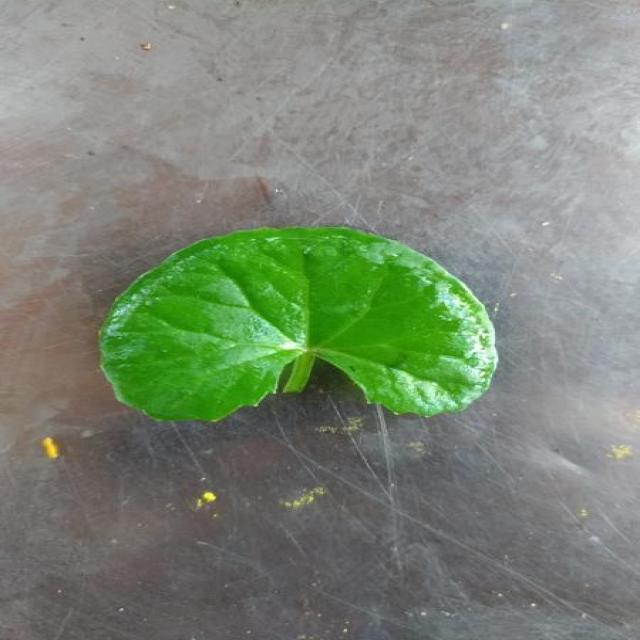bhrami: (100, 228, 497, 421)
